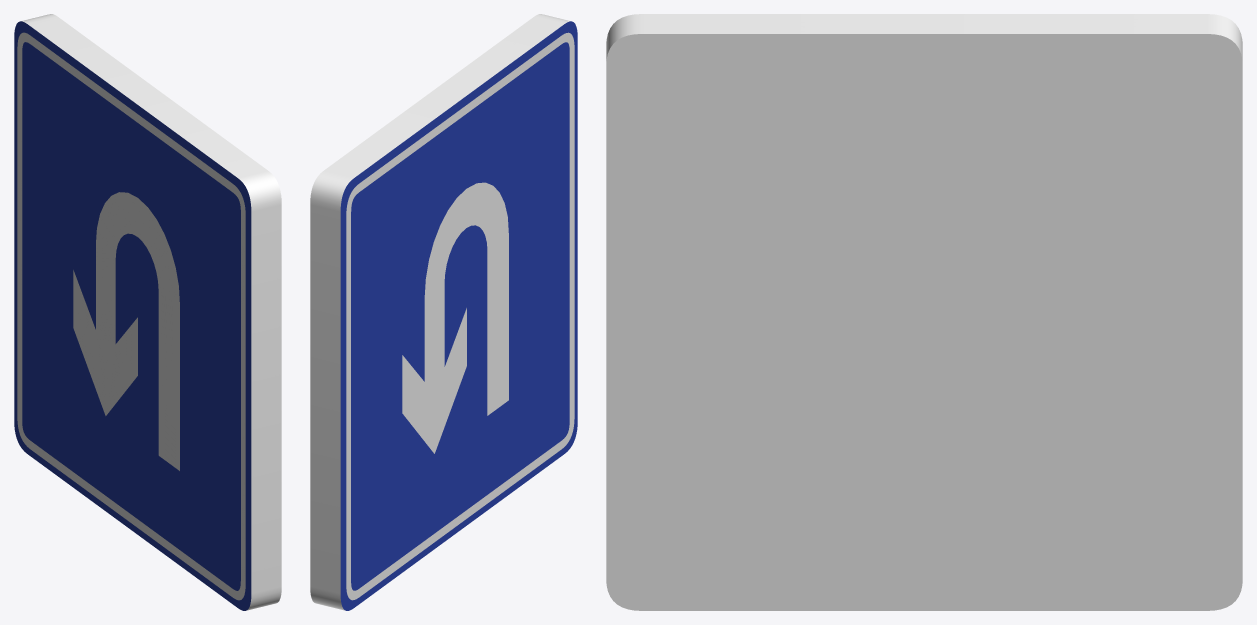
Rendered from U_Turn_Allowed.fbx.
3 views of the same model, side by side, from view 1: azimuth 30°, elevation 25°; view 2: azimuth 150°, elevation 25°; view 3: azimuth 270°, elevation 25° (orthographic). The views are drawn at different scales.
Visible parts, largest first — view 1: U_Turn_Allowed; view 2: U_Turn_Allowed; view 3: U_Turn_Allowed.
Boxes of the visible parts, bbox=[...] form: U_Turn_Allowed: bbox=[14, 14, 281, 610]; U_Turn_Allowed: bbox=[310, 14, 577, 610]; U_Turn_Allowed: bbox=[606, 14, 1242, 610].
Bounding box in the file's own units: 0.0776 × 1.01 × 1.01.
